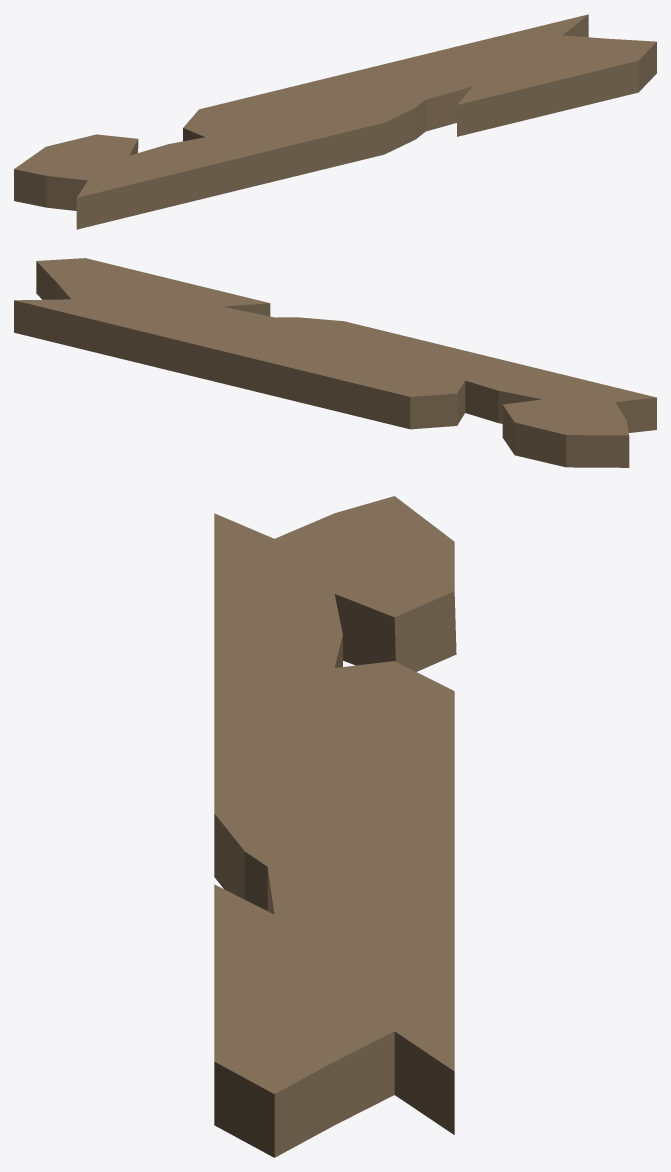
Rendered from Wood2.fbx.
3 views of the same model, one above another, from view 1: azimuth 30°, elevation 25°; view 2: azimuth 150°, elevation 25°; view 3: azimuth 270°, elevation 25° (orthographic). The views are drawn at different scales.
Parts seen in each view (by area): view 1: Wood2; view 2: Wood2; view 3: Wood2.
Part boxes in pixels (x1=…): Wood2: x1=14, y1=14, x2=656, y2=229; Wood2: x1=14, y1=258, x2=656, y2=467; Wood2: x1=214, y1=496, x2=456, y2=1157.
Bounding box in the file's own units: 2.28 × 0.1133 × 0.3901.
